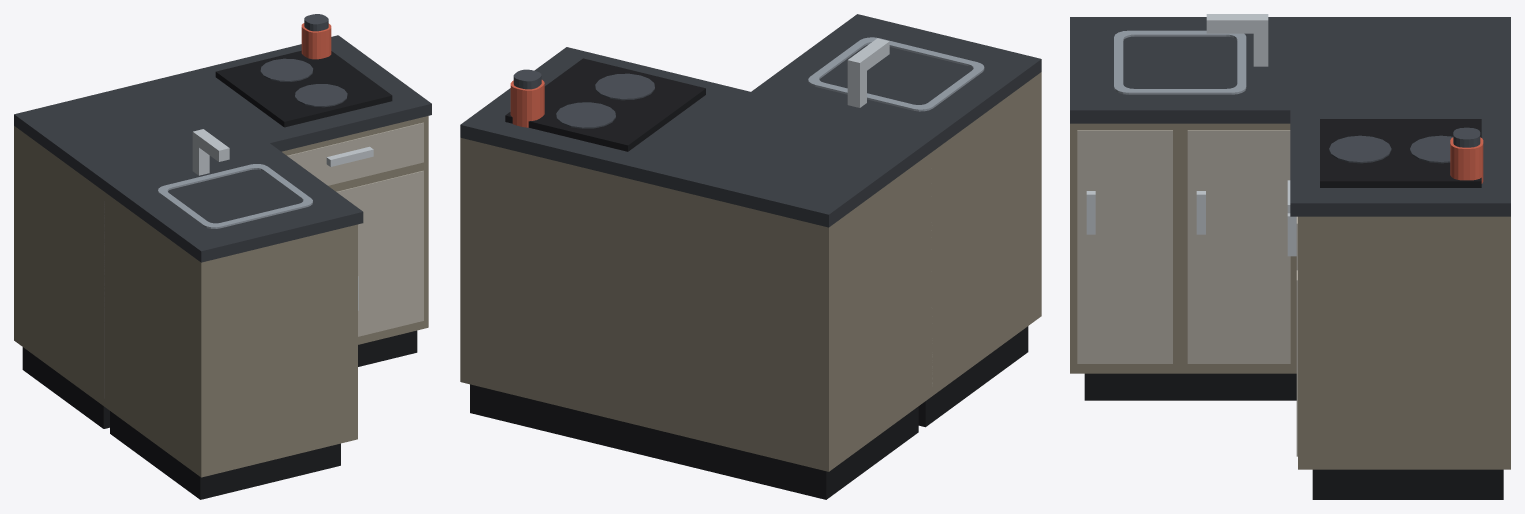
File: kitchen_small.glb
3 renders of one model, left to right at view 1: azimuth 30°, elevation 25°; view 2: azimuth 150°, elevation 25°; view 3: azimuth 270°, elevation 25°, orthographic. The views are drawn at different scales.
Parts seen in each view (by area): view 1: kitchen_small_Body; view 2: kitchen_small_Body; view 3: kitchen_small_Body.
Boxes of the visible parts, x1,y1,x2,y2 form: kitchen_small_Body: [14, 14, 431, 499]; kitchen_small_Body: [460, 14, 1041, 499]; kitchen_small_Body: [1070, 14, 1510, 499].
Bounding box in the file's own units: 1.2 × 1.04 × 1.2.
